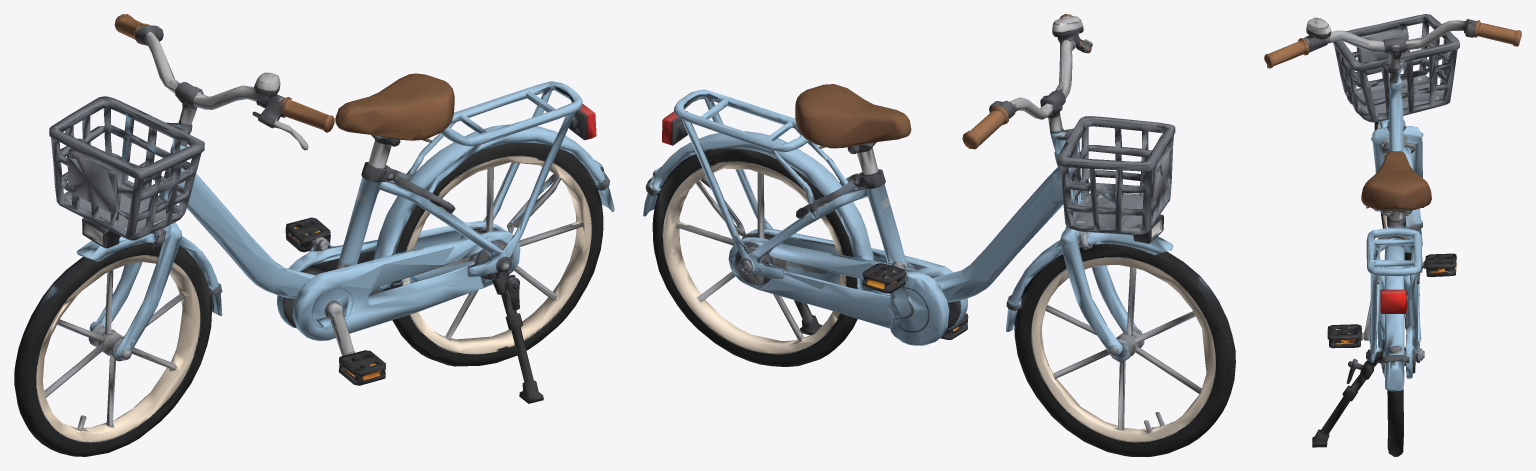
Rendered from PRP_Bicycle_A.glb.
The picture shows the model from 3 angles, left to right: view 1: azimuth 30°, elevation 25°; view 2: azimuth 150°, elevation 25°; view 3: azimuth 270°, elevation 25°; orthographic projection. The views are drawn at different scales.
Parts seen in each view (by area): view 1: Mesh_0; view 2: Mesh_0; view 3: Mesh_0.
Part boxes in pixels (x1,y1,x2,y2): Mesh_0: [14, 14, 614, 456]; Mesh_0: [643, 14, 1235, 456]; Mesh_0: [1264, 14, 1521, 456].
Bounding box in the file's own units: 1.7 × 1.05 × 0.7685.
Materials: 1 (1 with a texture image).
